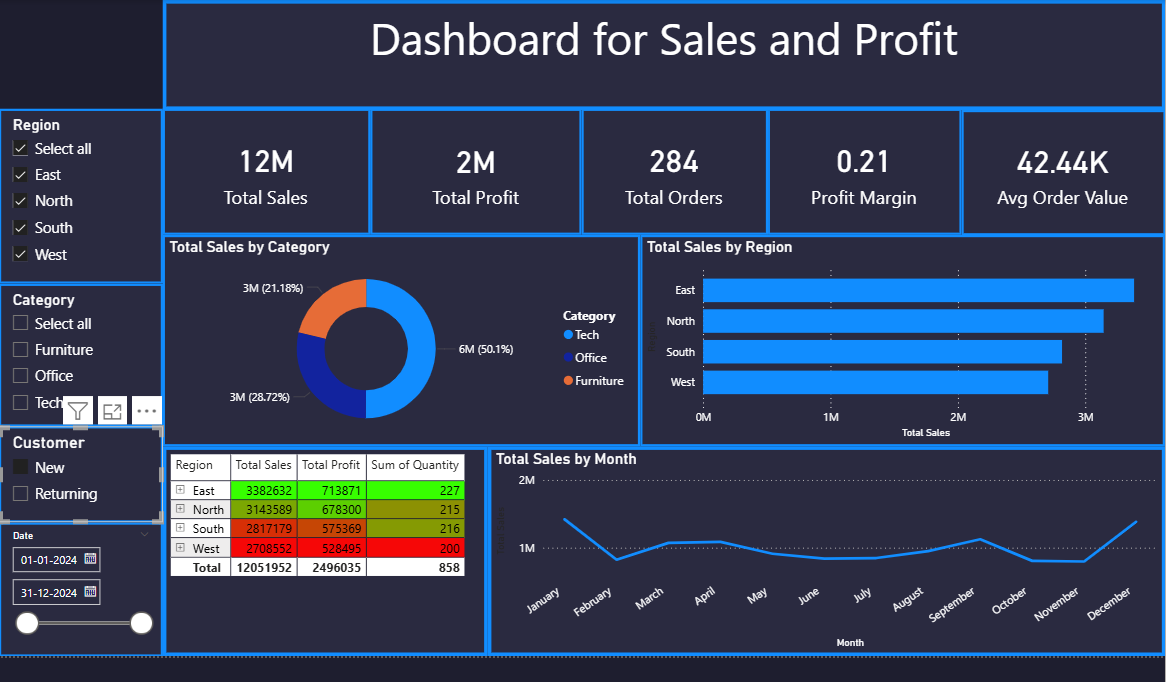

This screenshot's page, from the dashboard's own definition file:
{"tool":"powerbi","page":{"name":"Page 1","canvas":[1280,720],"ordinal":0},"visuals":[{"type":"card","fields":{"Values":["Sales_Data.Total Sales"]},"box":[179.8,119.4,227.8,138.6],"z":0},{"type":"card","fields":{"Values":["Sales_Data.Total Profit"]},"box":[407.5,119.4,231.9,138.6],"z":1000},{"type":"card","fields":{"Values":["Sales_Data.Profit Margin"]},"box":[843.9,119.4,212.7,138.6],"z":2000},{"type":"card","fields":{"Values":["Sales_Data.Total Orders"]},"box":[639.5,119.4,204.5,138.6],"z":3000},{"type":"card","fields":{"Values":["Sales_Data.Avg Order Value"]},"box":[1056.6,120.8,223.7,137.2],"z":4000},{"type":"clusteredBarChart","fields":{"Category":["Sales_Data.Region"],"Y":["Sales_Data.Total Sales"]},"box":[703.9,258,576.3,231.9],"z":5000},{"type":"donutChart","fields":{"Category":["Sales_Data.Category"],"Y":["Sales_Data.Total Sales"]},"box":[179.8,258,524.2,231.9],"z":6000},{"type":"lineChart","fields":{"Y":["Sales_Data.Total Sales"],"Category":["Sales_Data.Date.Variation.Date Hierarchy.Month"]},"box":[536.5,489.9,743.7,230.5],"z":7000},{"type":"pivotTable","fields":{"Rows":["Sales_Data.Region","Sales_Data.Product"],"Values":["Sales_Data.Total Sales","Sales_Data.Total Profit","Sum(Sales_Data.Quantity)"]},"box":[179.8,489.9,356.8,230.5],"z":8000},{"type":"slicer","fields":{"Values":["Sales_Data.Region"]},"box":[0,119.4,179.8,192.1],"z":9000},{"type":"slicer","fields":{"Values":["Sales_Data.Category"]},"box":[0,311.5,179.8,156.4],"z":10000},{"type":"slicer","fields":{"Values":["Sales_Data.Customer_Type"]},"box":[0,467.9,179.8,105.7],"z":11000},{"type":"slicer","fields":{"Values":["Sales_Data.Date"]},"box":[0,573.6,179.8,146.8],"z":12000},{"type":"textbox","box":[179.8,0,1100.5,120.8],"z":13000}]}

Visuals, with their boxes in screenshot pixels (x1, y1, x2, y2):
card - Sales_Data.Total Sales: (162,110,366,235)
card - Sales_Data.Total Profit: (366,110,574,235)
card - Sales_Data.Profit Margin: (758,110,949,235)
card - Sales_Data.Total Orders: (574,110,758,235)
card - Sales_Data.Avg Order Value: (949,112,1150,235)
clusteredBarChart - Sales_Data.Region x Sales_Data.Total Sales: (632,235,1150,443)
donutChart - Sales_Data.Category x Sales_Data.Total Sales: (162,235,632,443)
lineChart - Sales_Data.Total Sales x Sales_Data.Date.Variation.Date Hierarchy.Month: (482,443,1150,650)
pivotTable - Sales_Data.Region x Sales_Data.Product: (162,443,482,650)
slicer - Sales_Data.Region: (0,110,162,283)
slicer - Sales_Data.Category: (0,283,162,423)
slicer - Sales_Data.Customer_Type: (0,423,162,518)
slicer - Sales_Data.Date: (0,518,162,650)
textbox: (162,3,1150,112)
